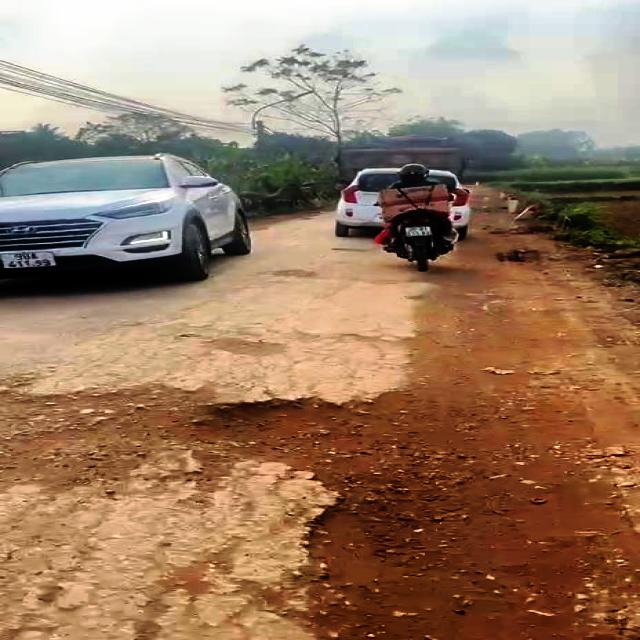pothole: (298, 489, 640, 640), (0, 379, 472, 487), (196, 331, 292, 363), (273, 265, 316, 281)
